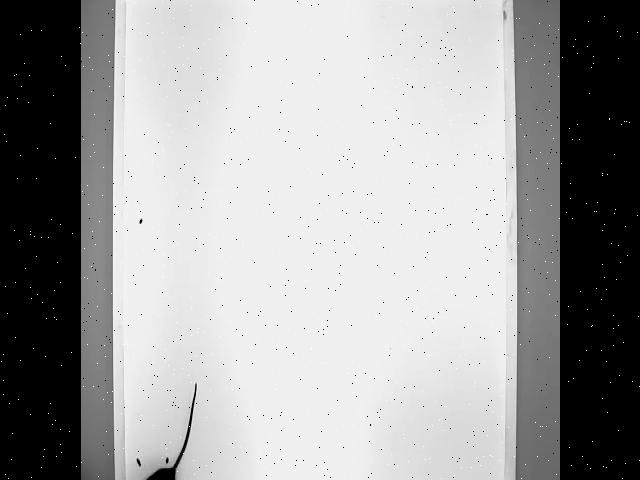Tikus: (119, 381, 199, 480)
